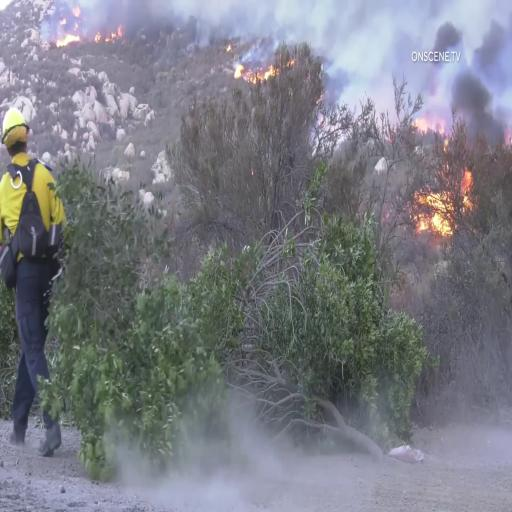fire: (422, 173, 477, 239)
smoke: (446, 61, 512, 144)
